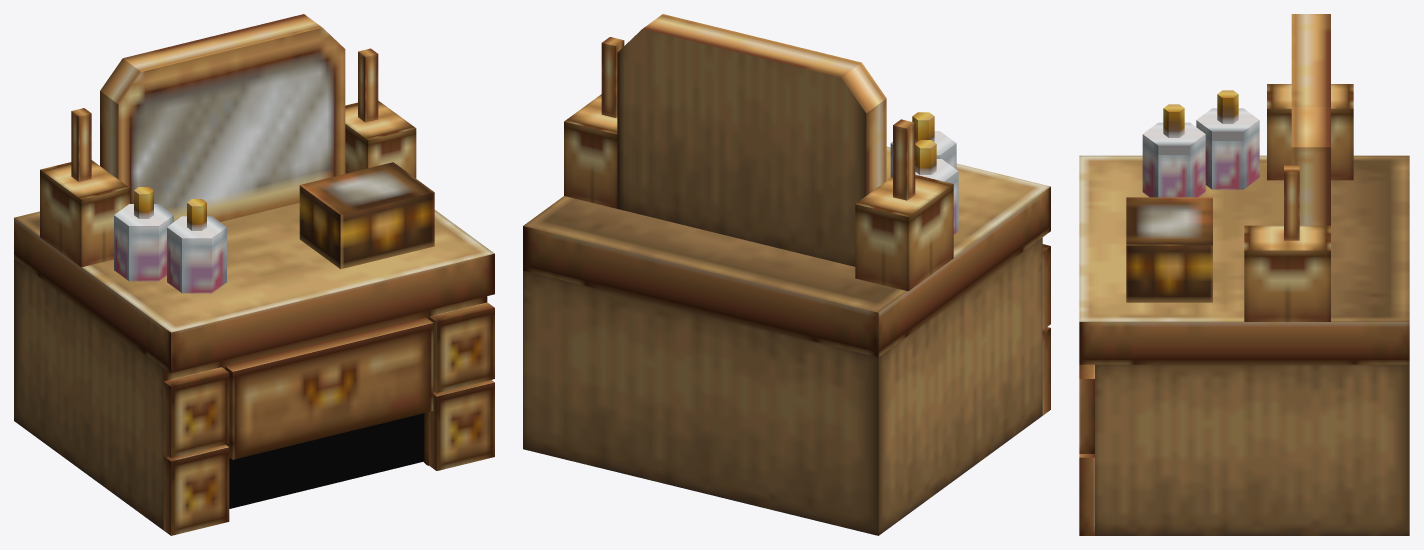
Rendered from Inside_Poly_Vanity_Table_01.obj.
3 views of the same model, side by side, from view 1: azimuth 30°, elevation 25°; view 2: azimuth 150°, elevation 25°; view 3: azimuth 270°, elevation 25° (orthographic). The views are drawn at different scales.
Visible parts, largest first — view 1: Cube, Cube.001, Cube.005, Cube.004, Cube.003, Cube.002; view 2: Cube, Cube.005, Cube.003, Cube.002, Cube.004, Cube.001; view 3: Cube, Cube.004, Cube.002, Cube.005, Cube.003, Cube.001.
Boxes of the visible parts, bbox=[...] form: Cube: bbox=[14, 203, 494, 530]; Cube.001: bbox=[163, 302, 494, 535]; Cube.005: bbox=[100, 14, 345, 221]; Cube.004: bbox=[114, 162, 434, 293]; Cube.003: bbox=[40, 108, 129, 267]; Cube.002: bbox=[345, 48, 416, 178]; Cube: bbox=[523, 146, 1050, 535]; Cube.005: bbox=[617, 14, 886, 266]; Cube.003: bbox=[855, 119, 953, 291]; Cube.002: bbox=[564, 37, 624, 208]; Cube.004: bbox=[890, 112, 958, 234]; Cube.001: bbox=[1042, 244, 1050, 415]; Cube: bbox=[1079, 155, 1409, 535]; Cube.004: bbox=[1126, 90, 1259, 302]; Cube.002: bbox=[1244, 165, 1330, 321]; Cube.005: bbox=[1291, 14, 1330, 225]; Cube.003: bbox=[1267, 84, 1353, 180]; Cube.001: bbox=[1079, 364, 1094, 535].
Size of the model in its own units: 1 by 1.1 by 0.84.
1 material, 1 textured.
